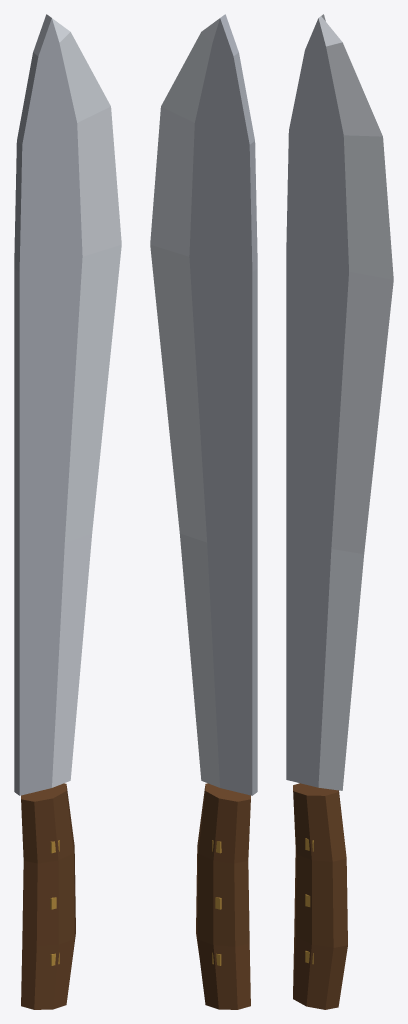
Rendered from machete.obj.
3 renders of one model, left to right at view 1: azimuth 30°, elevation 25°; view 2: azimuth 150°, elevation 25°; view 3: azimuth 330°, elevation 25°, orthographic.
Visible parts, largest first — view 1: machete; view 2: machete; view 3: machete.
Part boxes in pixels (box(x1,y1,x2,y2)): machete: box(14, 14, 121, 1009); machete: box(150, 14, 257, 1009); machete: box(286, 14, 393, 1009).
Bounding box in the file's own units: 0.1014 × 0.912 × 0.0312.
